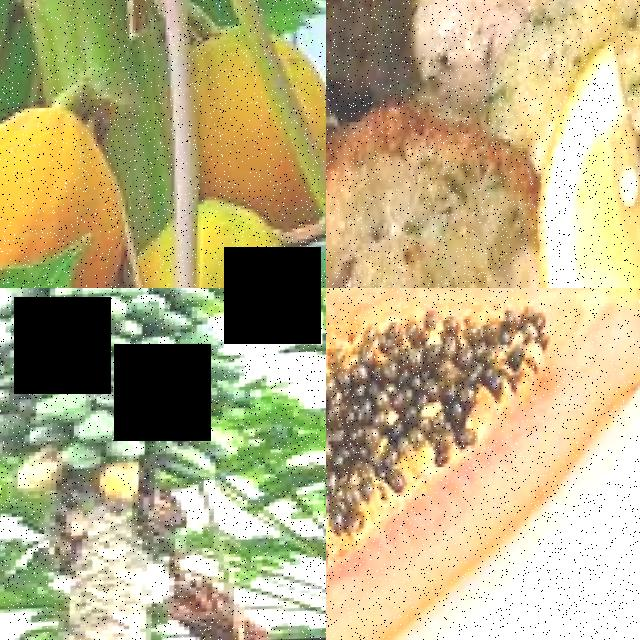lemon: (523, 47, 640, 288)
pawpaw: (326, 298, 588, 640), (180, 15, 326, 193), (0, 102, 136, 281), (122, 196, 298, 288), (35, 390, 96, 426), (32, 322, 79, 354), (89, 293, 133, 322)
